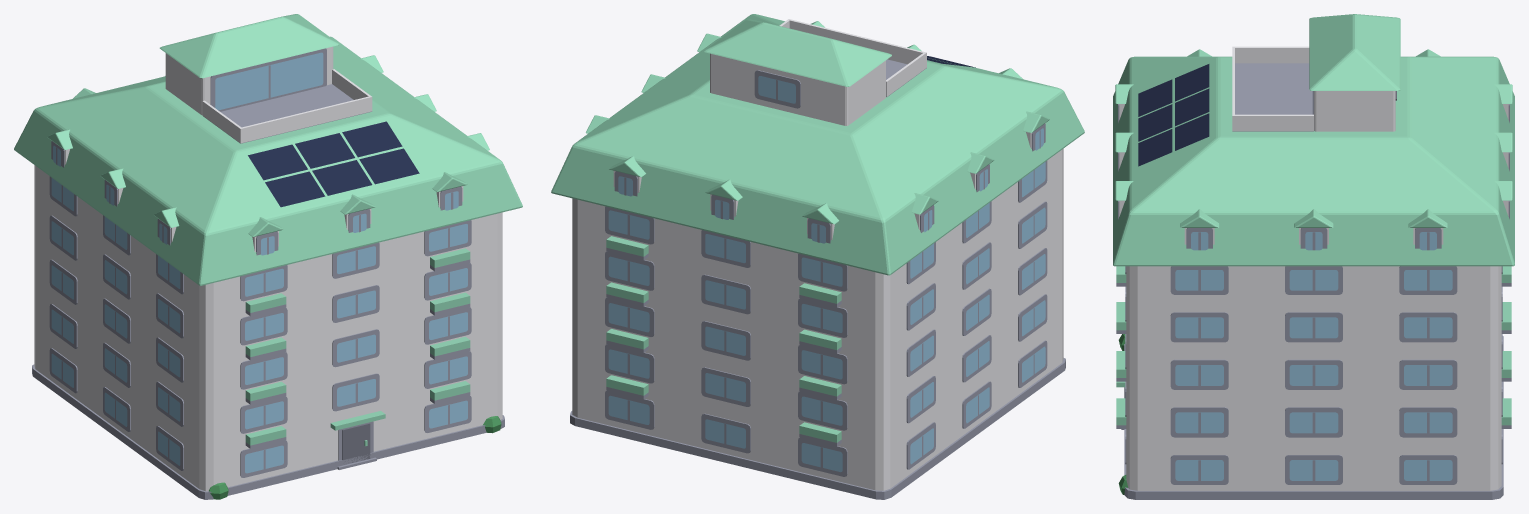
Rendered from house-2x2-5f-tone-a-solar.glb.
3 renders of one model, left to right at view 1: azimuth 30°, elevation 25°; view 2: azimuth 150°, elevation 25°; view 3: azimuth 270°, elevation 25°, orthographic. The views are drawn at different scales.
Visible parts, largest first — view 1: house-2x2-5f-tone-a-solar; view 2: house-2x2-5f-tone-a-solar; view 3: house-2x2-5f-tone-a-solar.
Part boxes in pixels (left/top/right/bottom): house-2x2-5f-tone-a-solar: left=14, top=14, right=522, bottom=499; house-2x2-5f-tone-a-solar: left=551, top=14, right=1084, bottom=499; house-2x2-5f-tone-a-solar: left=1113, top=14, right=1514, bottom=499.
Bounding box in the file's own units: 1.99 × 2.12 × 1.99.
Materials: 1 (1 with a texture image).
